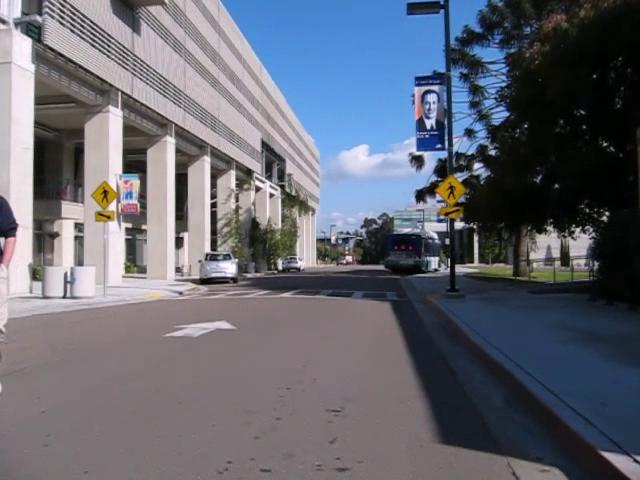pedestrianCrossing: (435, 174, 467, 207), (89, 178, 119, 208)
